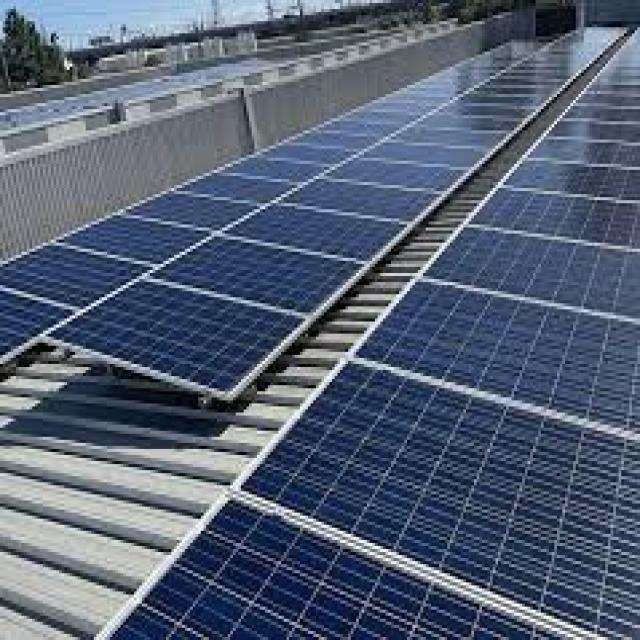clean-solar-panel: (114, 31, 640, 638), (0, 28, 628, 392)
